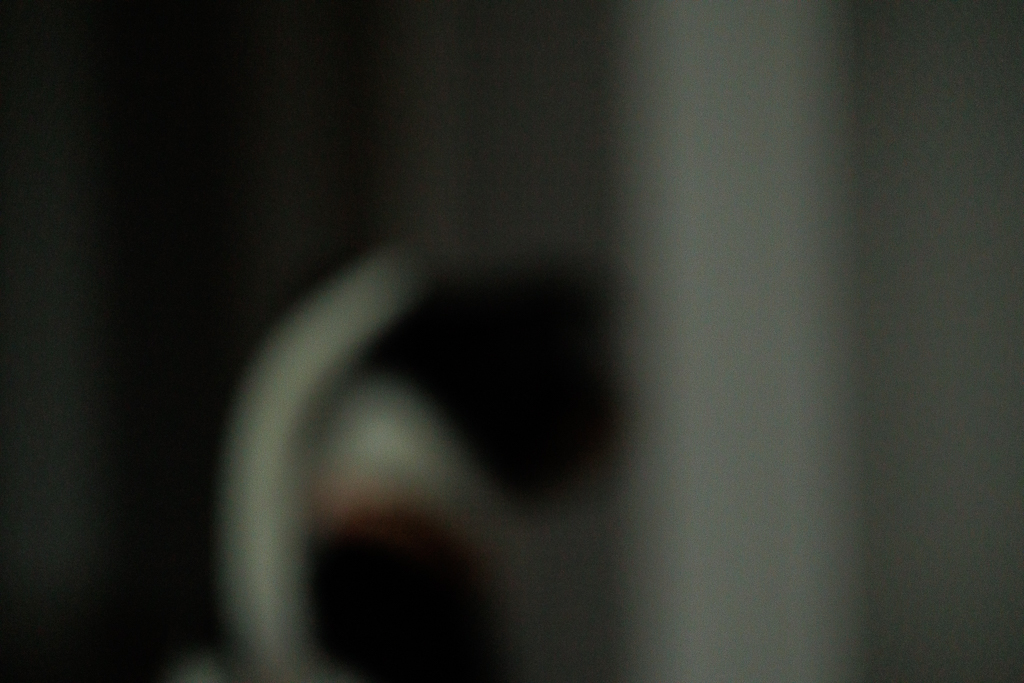Dog: (160, 215, 683, 683)
